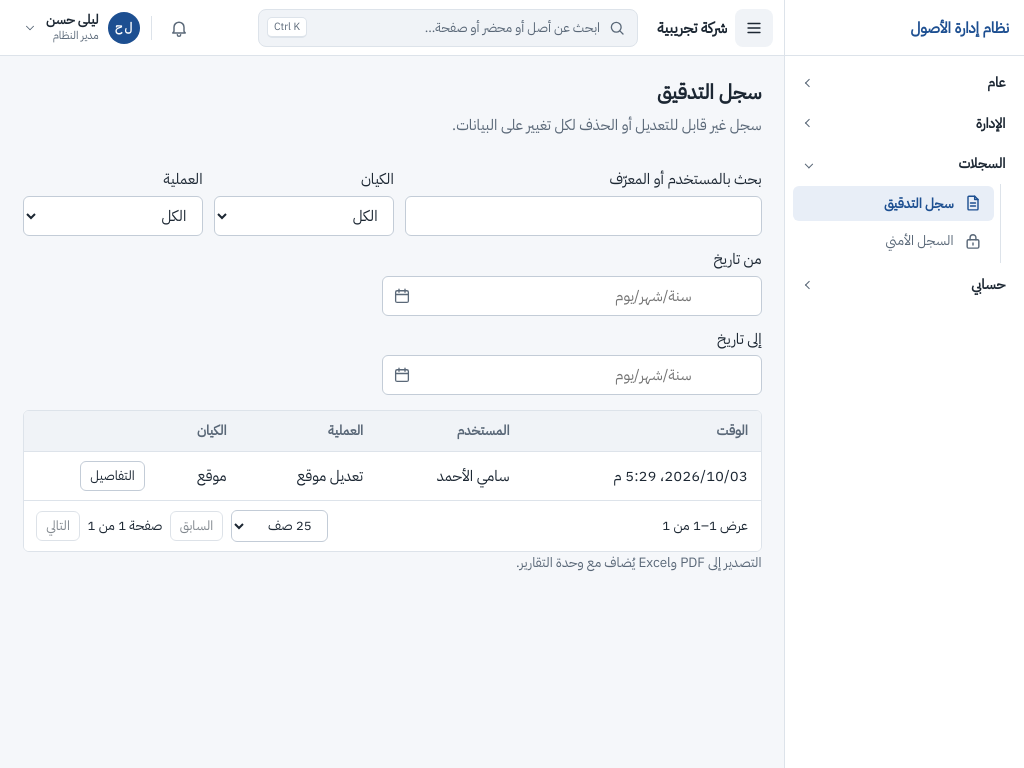
Audit log › shows Arabic operation names and the old → new values
expect the cell "تعديل موقع" is shown: met, box [239,451,376,500]
Click the button "التفاصيل" at (112, 476), box [80,461,145,491]
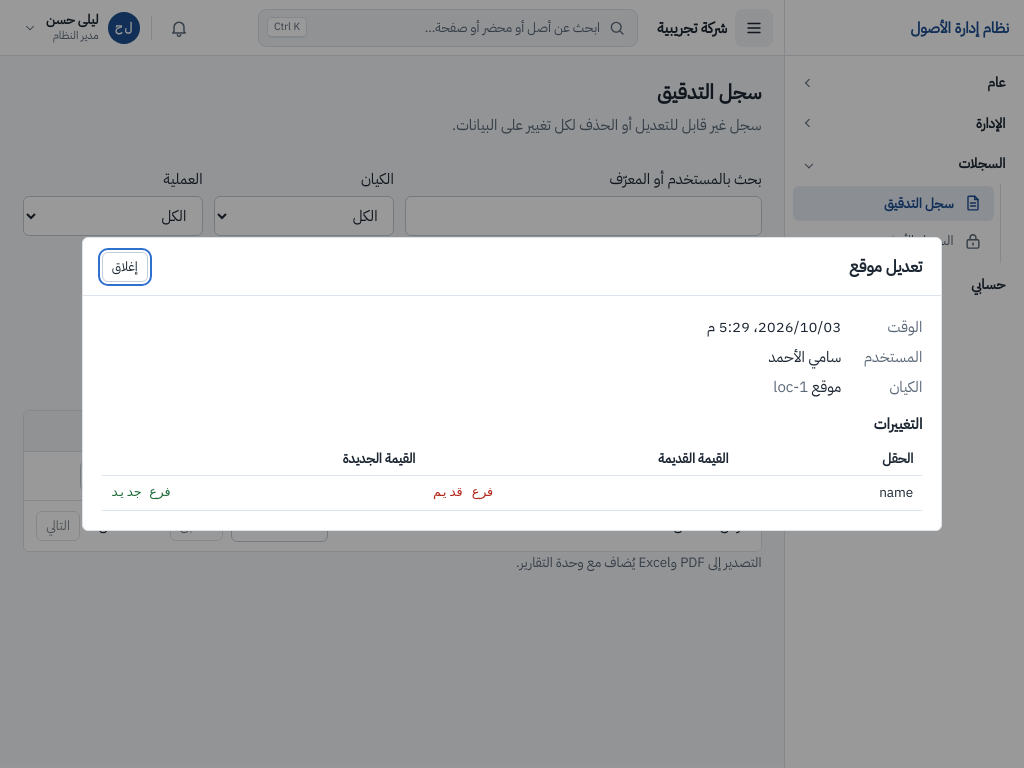
expect the text "فرع قديم" is shown: met, box [433,484,495,499]
expect the text "فرع جديد" is shown: met, box [111,484,172,499]
